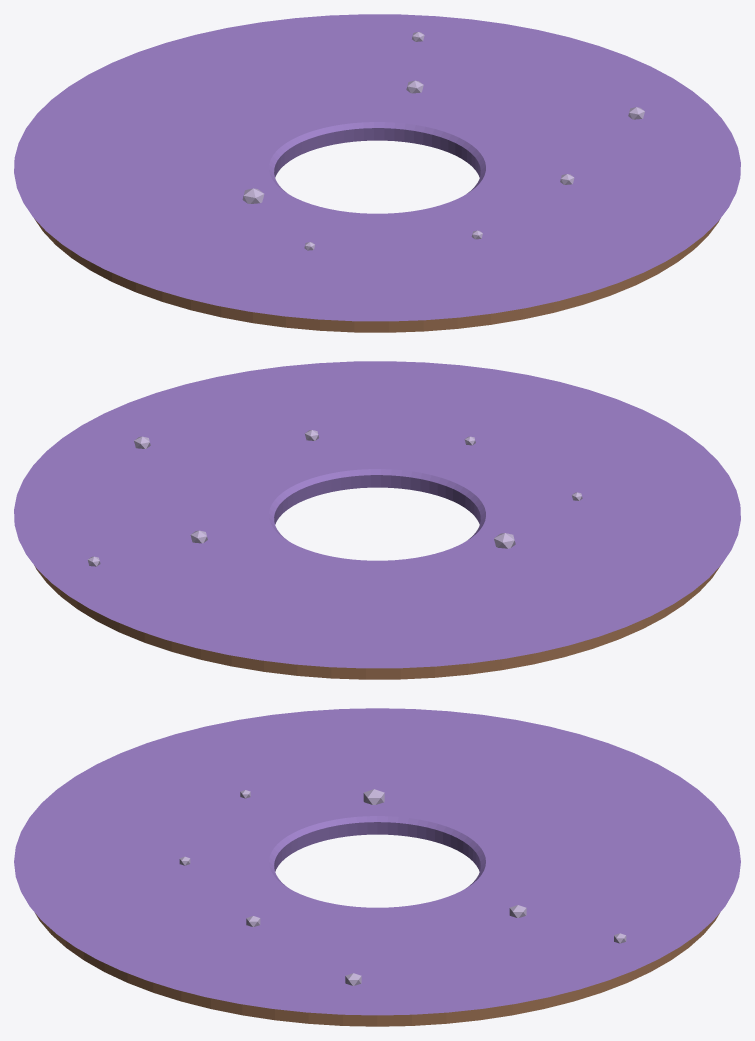
The model's file is goo_jar_deck_4@mushroom.fbx.
3 views of the same model, one above another, from view 1: azimuth 30°, elevation 25°; view 2: azimuth 150°, elevation 25°; view 3: azimuth 270°, elevation 25° (orthographic).
Parts seen in each view (by area): view 1: goo_jar_deck_4; view 2: goo_jar_deck_4; view 3: goo_jar_deck_4.
Boxes of the visible parts, box(x1,y1,x2,y2) form: goo_jar_deck_4: box(14, 14, 740, 332); goo_jar_deck_4: box(14, 361, 740, 679); goo_jar_deck_4: box(14, 708, 740, 1026).
Size of the model in its own units: 42.2 by 1.78 by 42.2.
